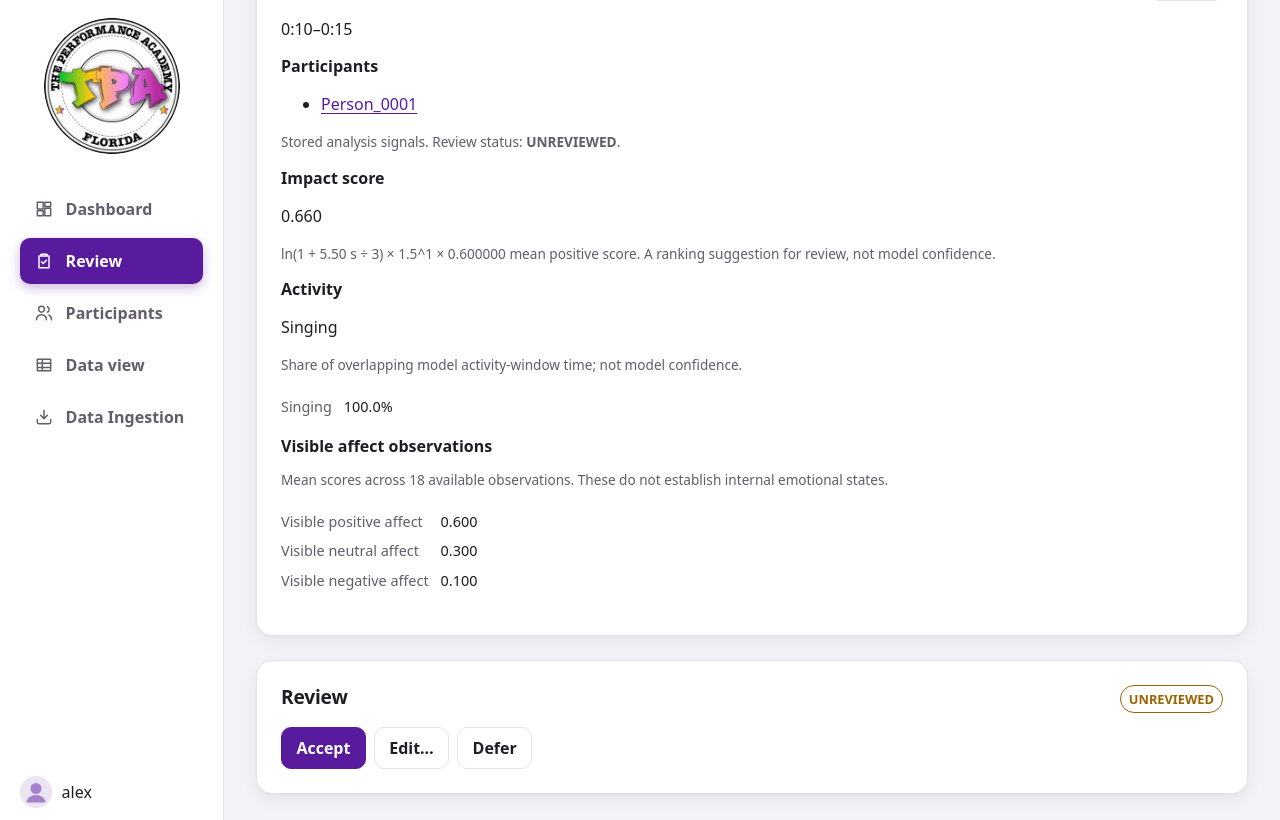
Test: keeps the clip open and shows an error when accepting fails
(page scrolled)
What coordinates should you click on to do the following:
click the button "Accept"
I would click on:
 (323, 748)
Its box is [281,727,366,769].
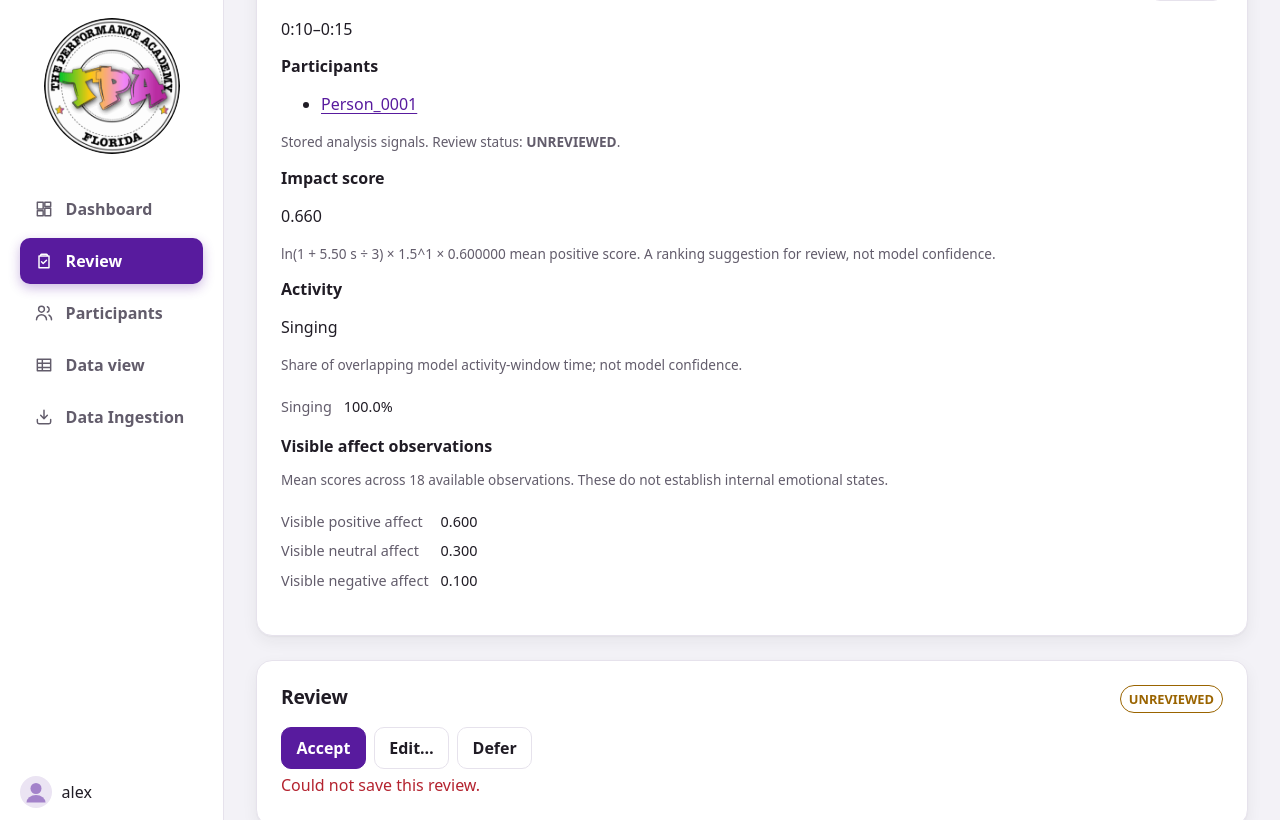
Now the message reads "Could not save this review.", box [281,774,480,796]
